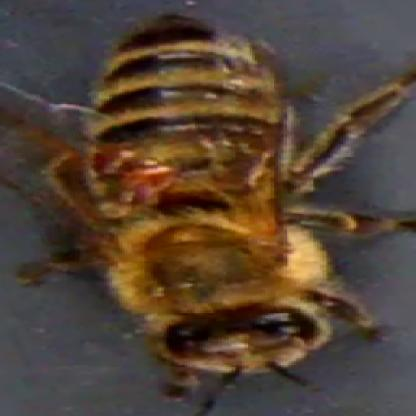bee: (85, 15, 357, 401)
vaoora: (126, 166, 169, 190), (99, 144, 130, 166)
